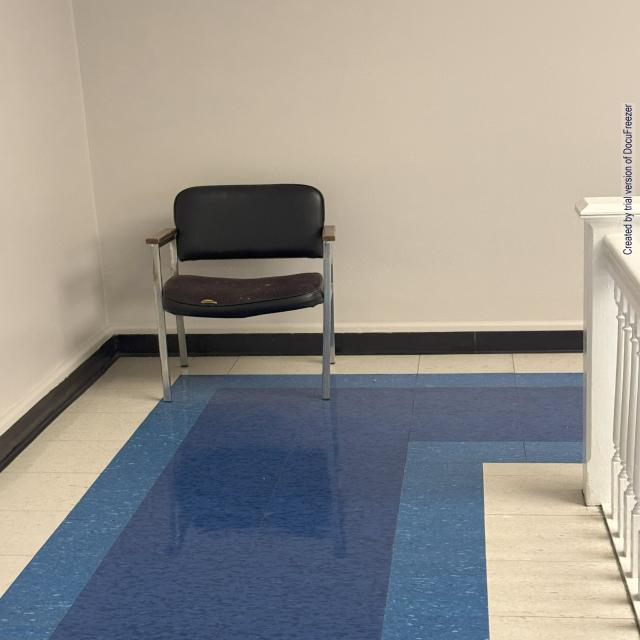chair: (140, 148, 358, 404)
